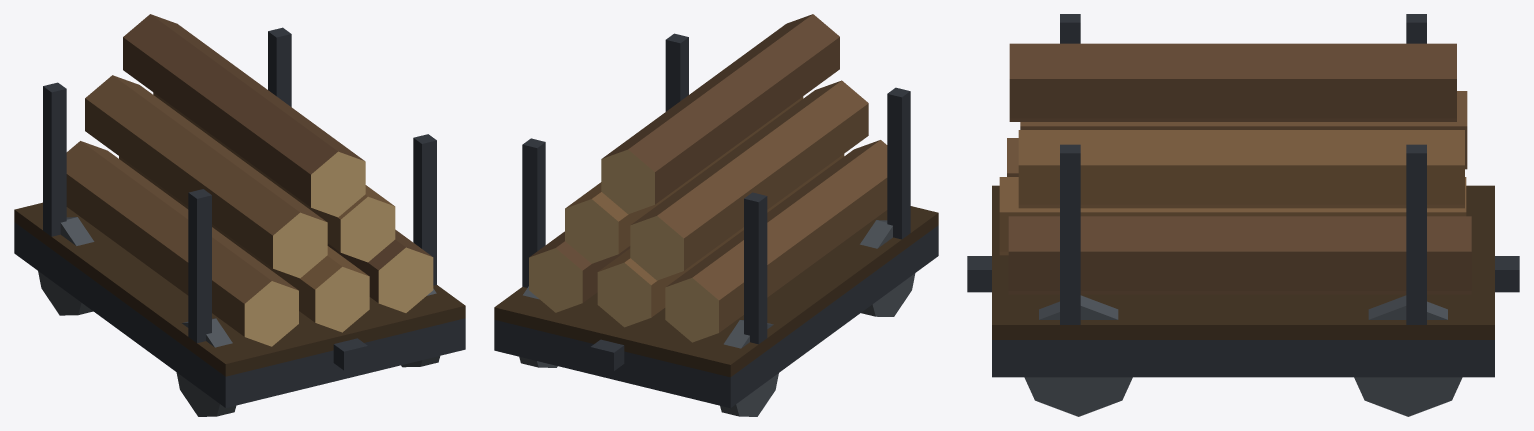
The model's file is wagon_wood.glb.
The picture shows the model from 3 angles, left to right: view 1: azimuth 30°, elevation 25°; view 2: azimuth 150°, elevation 25°; view 3: azimuth 270°, elevation 25°; orthographic projection. The views are drawn at different scales.
Parts seen in each view (by area): view 1: wagon_wood; view 2: wagon_wood; view 3: wagon_wood.
Boxes of the visible parts, x1=… form: wagon_wood: x1=14, y1=14, x2=465, y2=416; wagon_wood: x1=494, y1=14, x2=938, y2=416; wagon_wood: x1=967, y1=14, x2=1519, y2=416.
Size of the model in its own units: 0.8 by 0.827 by 1.34.
